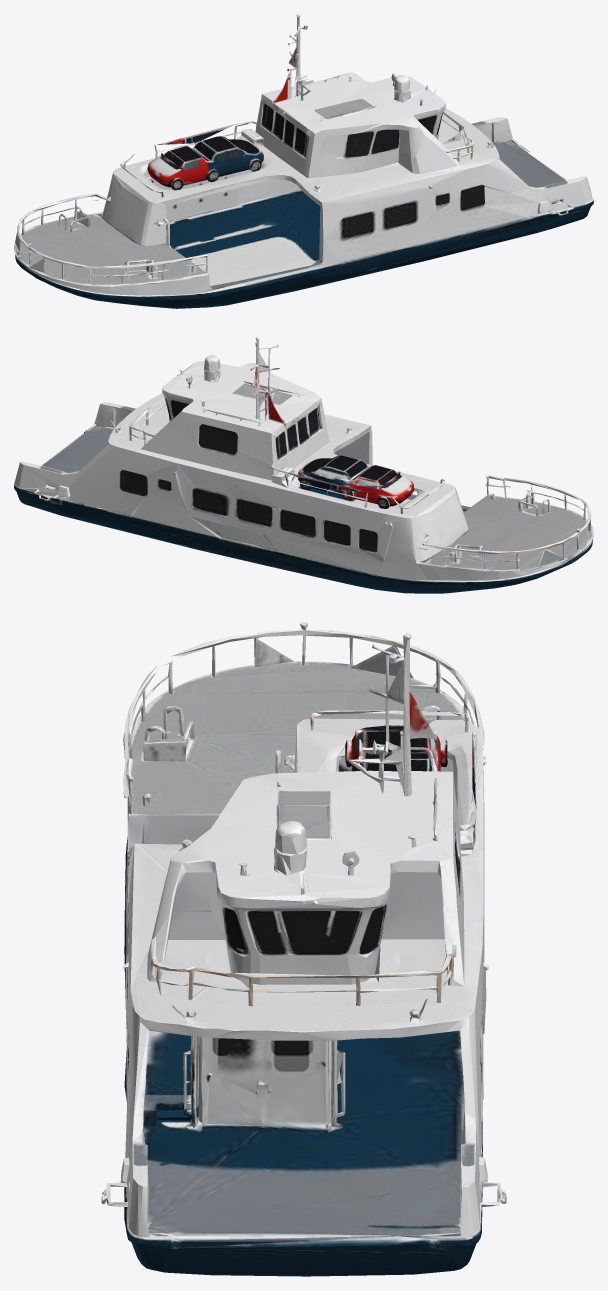
The model's file is ferry.glb.
The picture shows the model from 3 angles, top to bottom: view 1: azimuth 30°, elevation 25°; view 2: azimuth 150°, elevation 25°; view 3: azimuth 270°, elevation 25°; orthographic projection. The views are drawn at different scales.
Size of the model in its own units: 1.9 by 0.7367 by 0.6289.
1 material, 1 textured.
